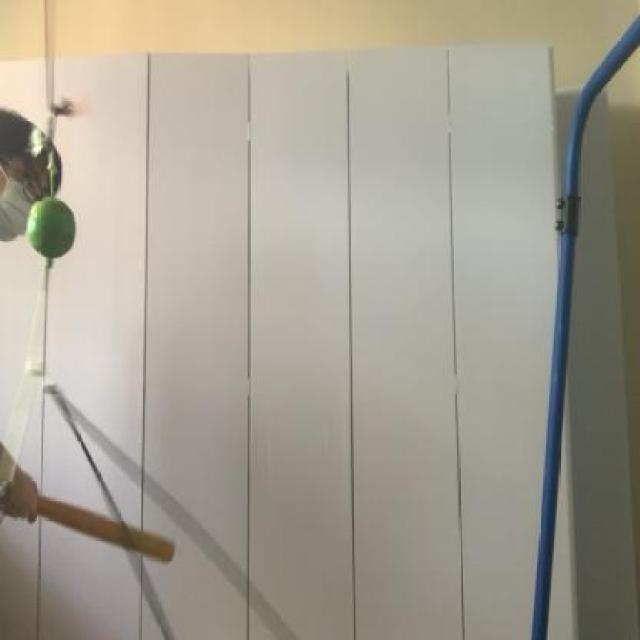baseball: (20, 188, 83, 258)
